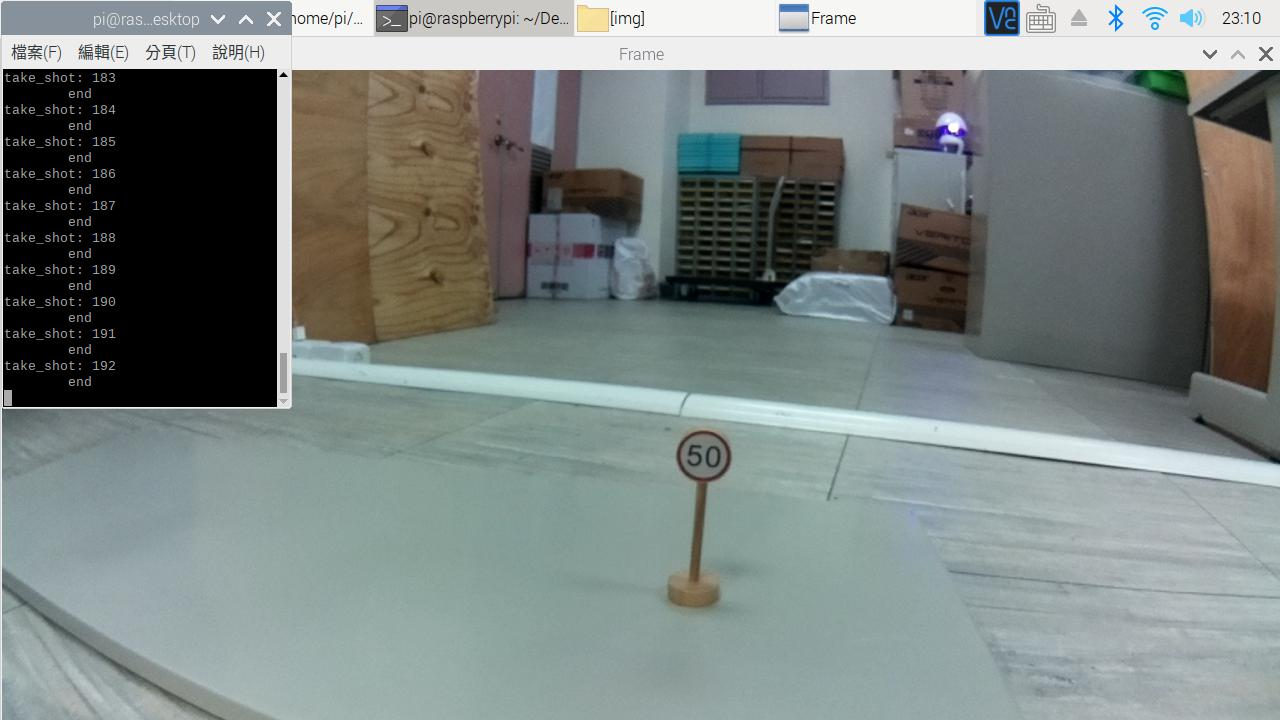Speed50: (665, 412, 747, 496)
